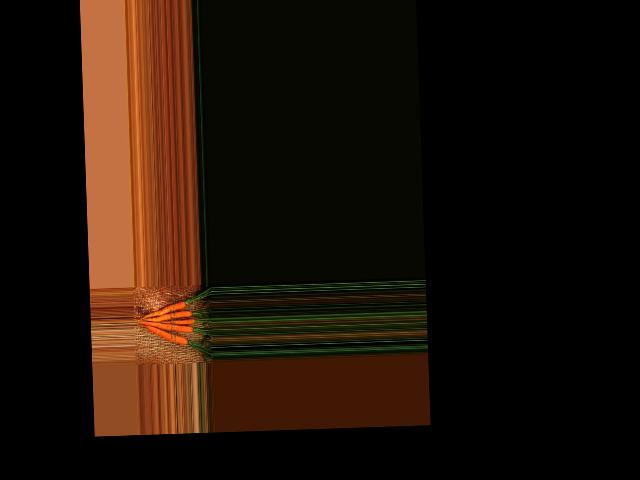carrot: (144, 300, 186, 318)
